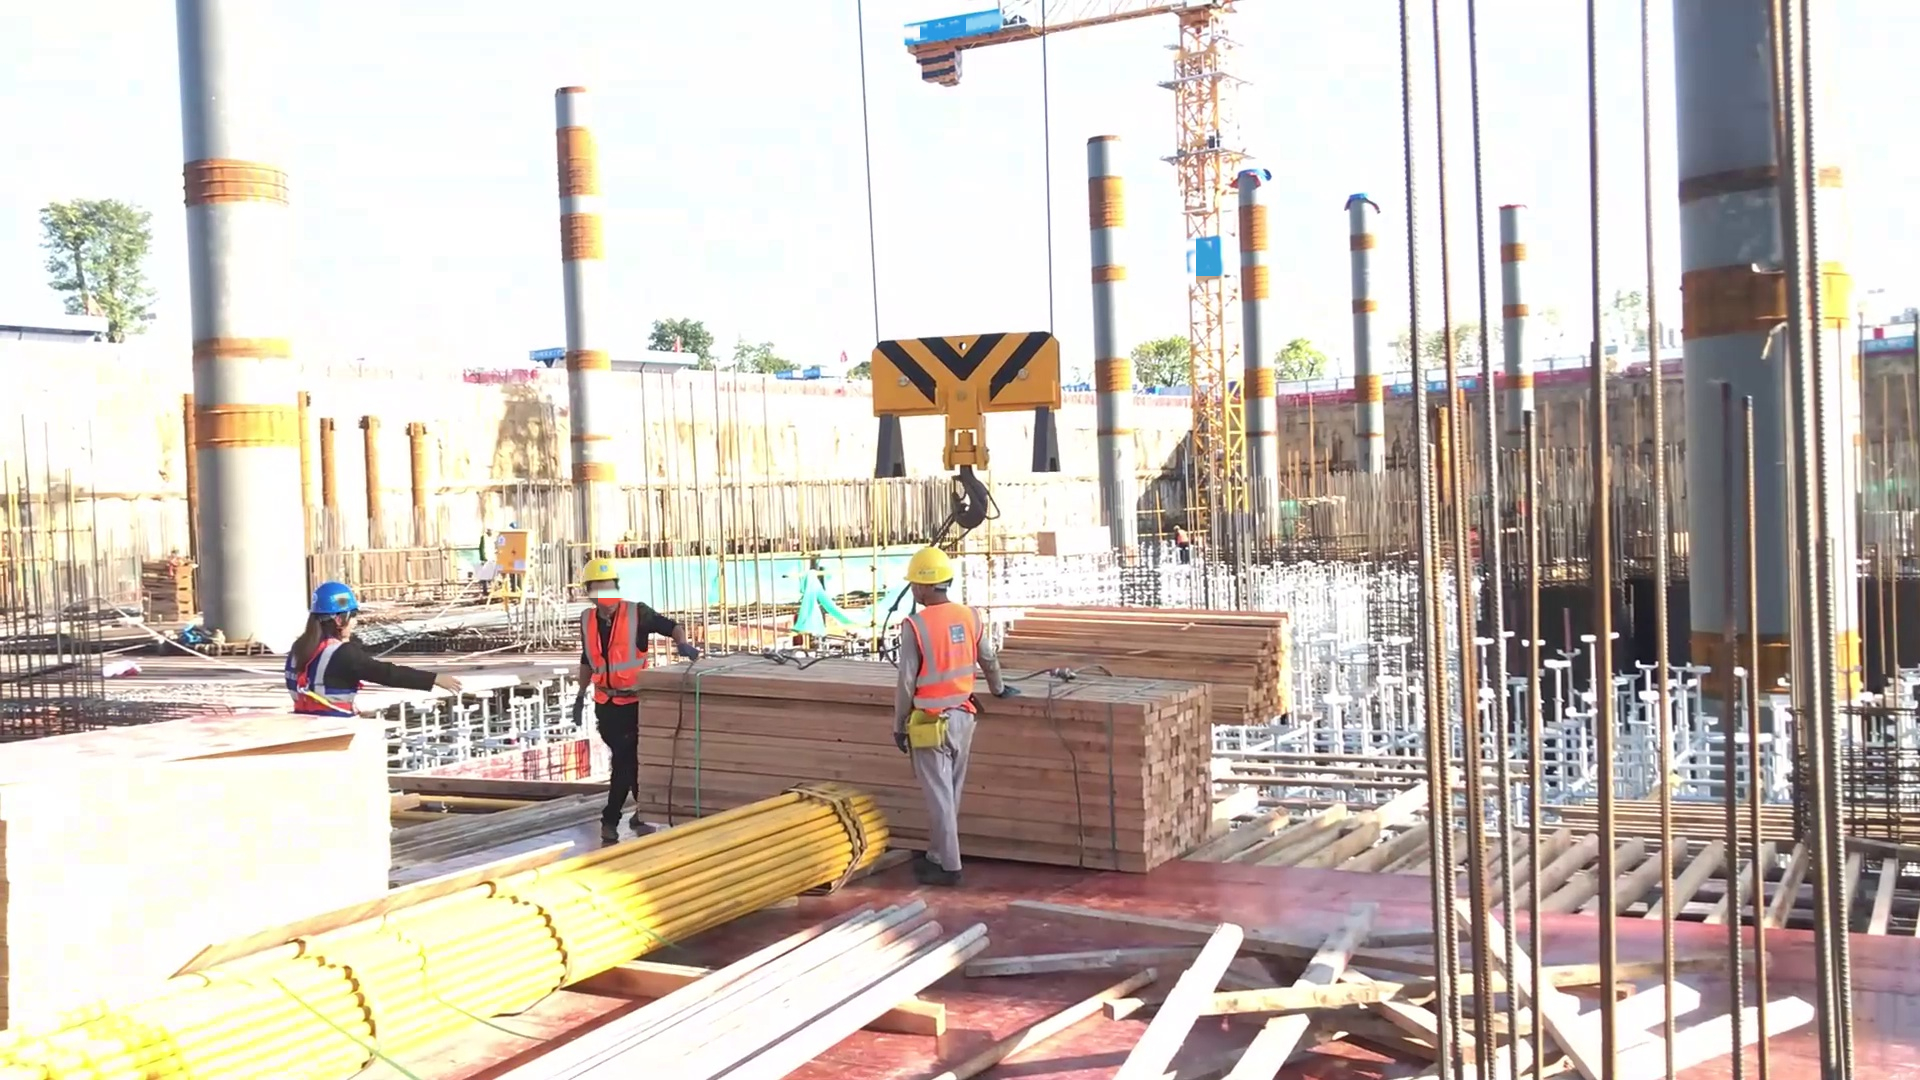helmet: (901, 543, 965, 593), (308, 574, 362, 619), (582, 553, 624, 584)
hook: (863, 329, 1058, 476)
person: (878, 546, 1012, 879), (566, 564, 693, 829), (281, 585, 471, 720)
rebar: (528, 896, 1028, 1080)
vest: (900, 611, 982, 708), (282, 631, 370, 723), (581, 604, 651, 700)
wood: (621, 639, 1223, 883), (979, 585, 1309, 737)
